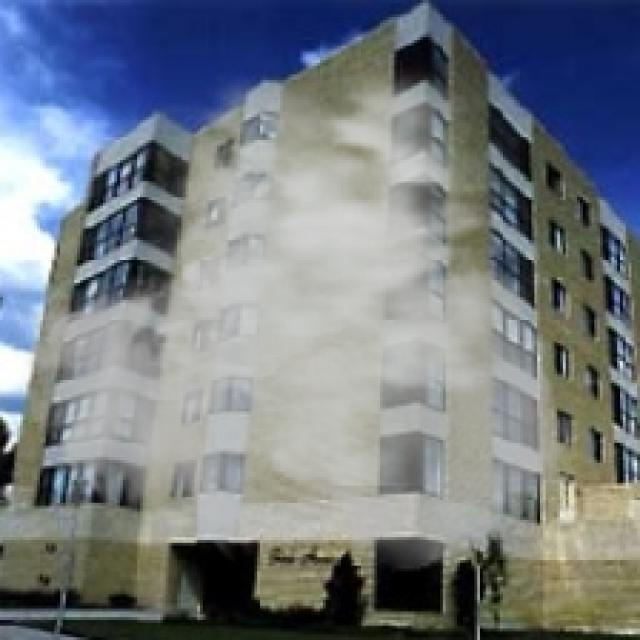smoke: (20, 46, 580, 574)
